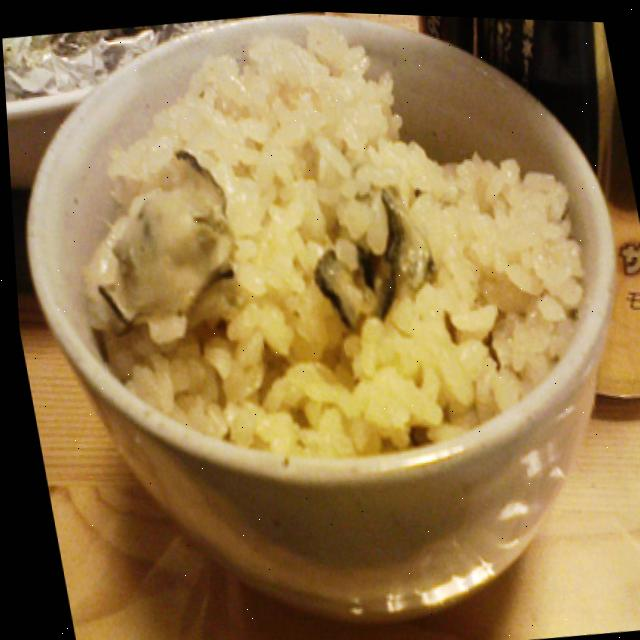米饭主食: (59, 36, 600, 464)
